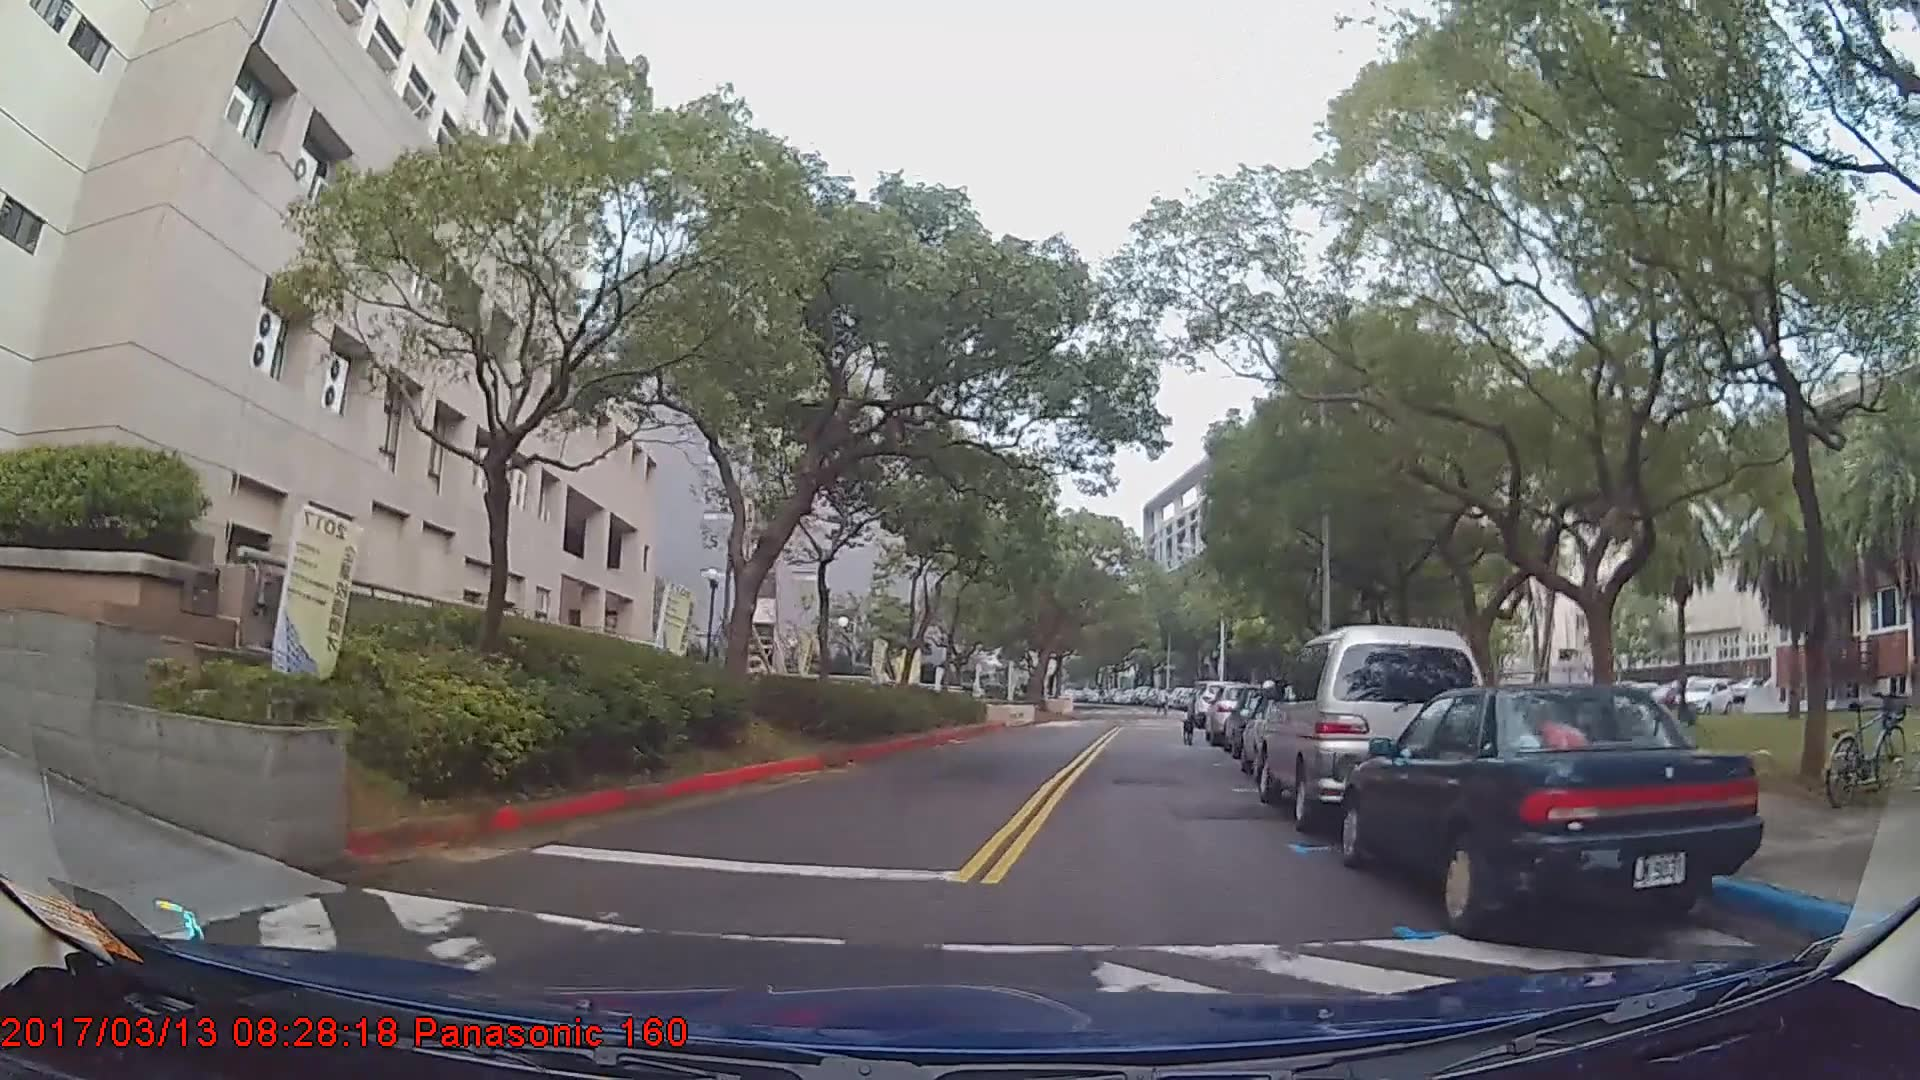vehicle: (1345, 684, 1767, 935), (1259, 624, 1484, 837)
